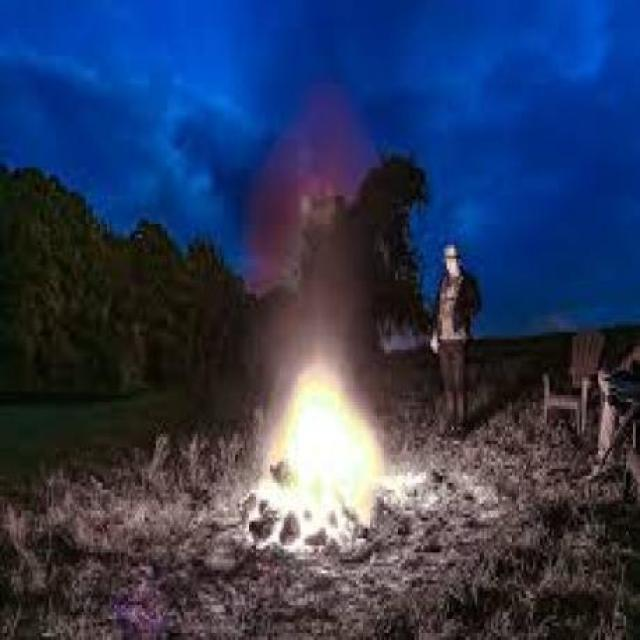Fire: (250, 339, 394, 526)
Smoke: (231, 113, 382, 329)
